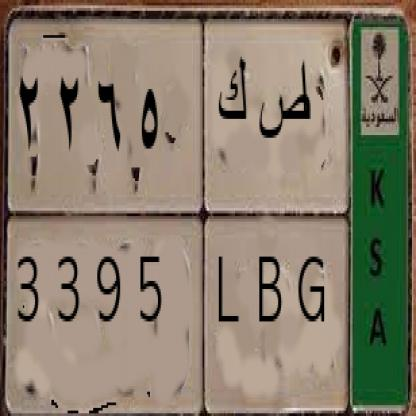english: (5, 210, 349, 396)
